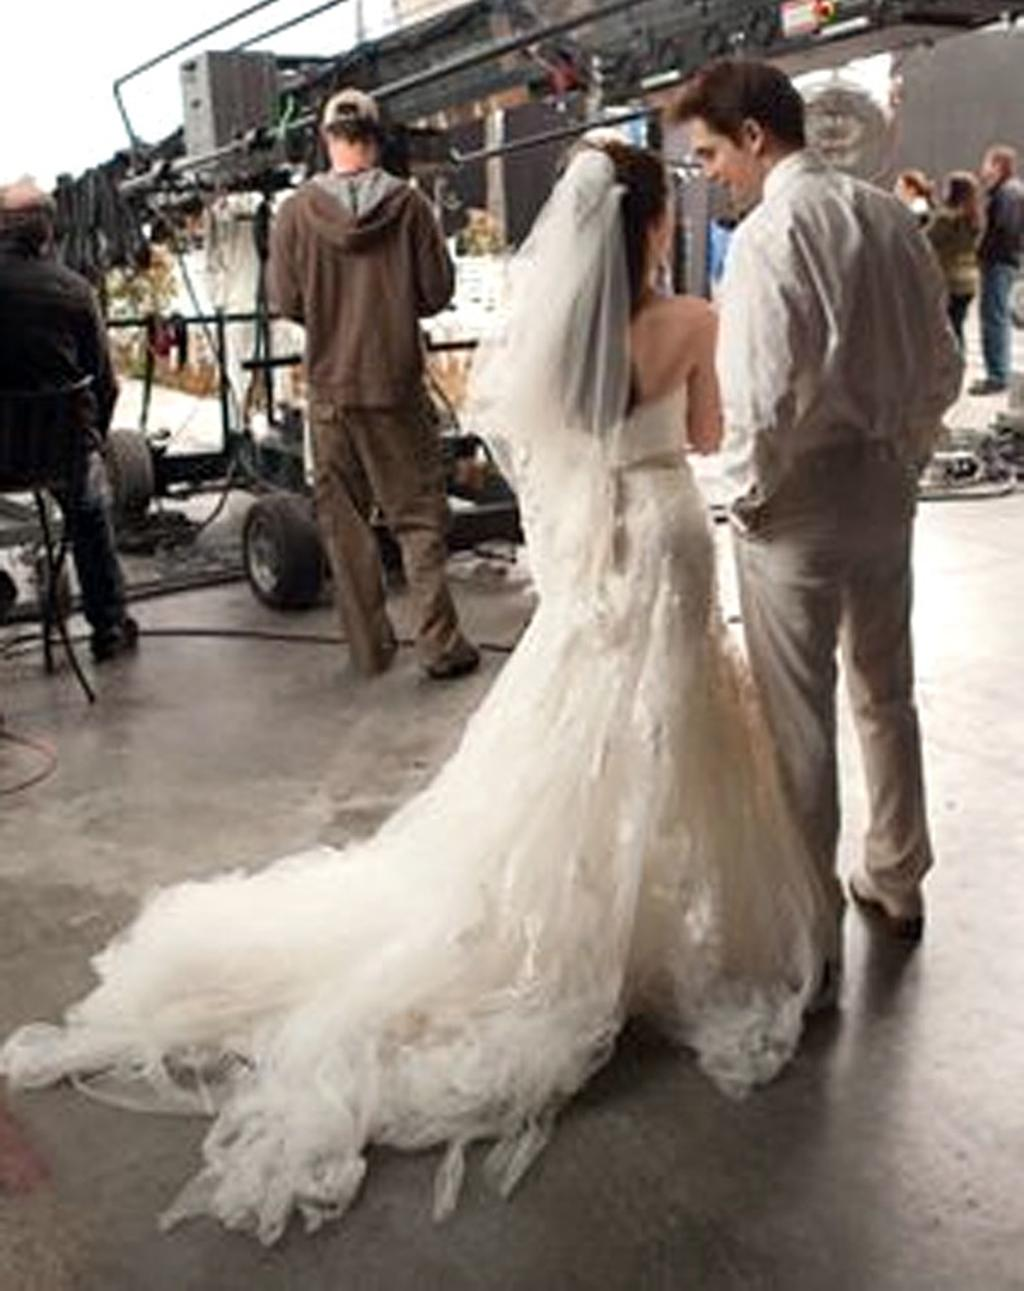face: (686, 106, 759, 202)
